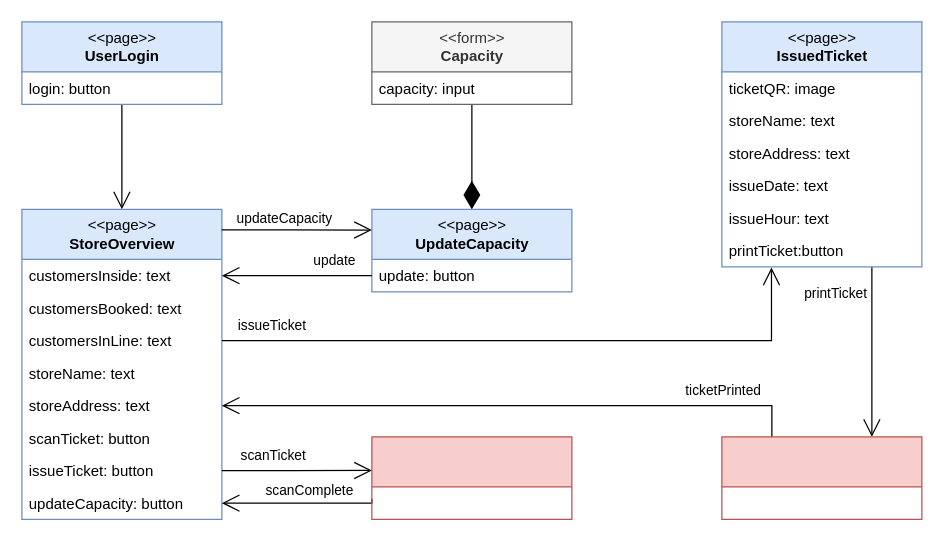
Image size: 944x545. Some labels were removed from this diagram. The centre of each missing label's shape, as x and y in pixels:
"<<external>> Camera" belongs at pixel 471 477.
"<<external>> Printer" belongs at pixel 821 477.
